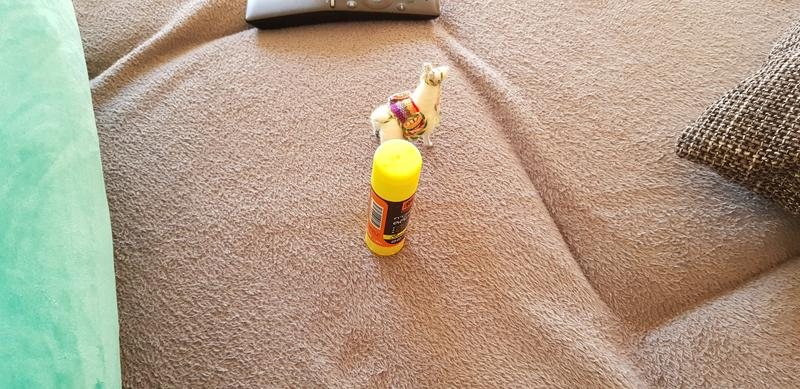Glue-Stick: (359, 139, 425, 265)
Horse-Toy: (358, 62, 455, 149)
